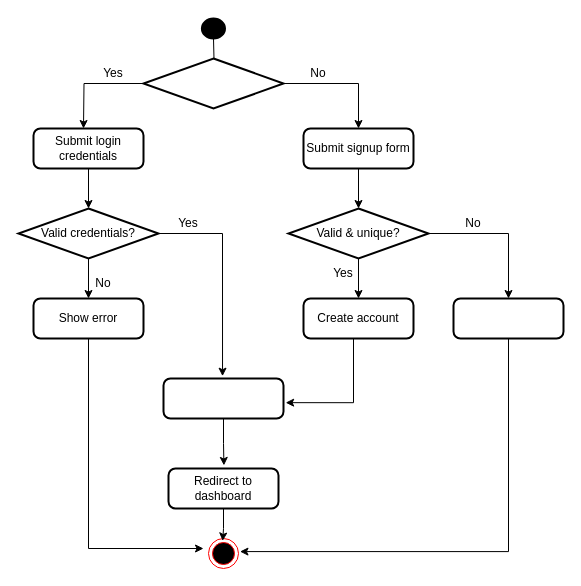
This 581x586 diagram has some shape labels left out. Each missing label, with the centre of its shape:
Issue authentication token: point 223,398
Registered user?: point 213,83
Show validation error: point 508,318
